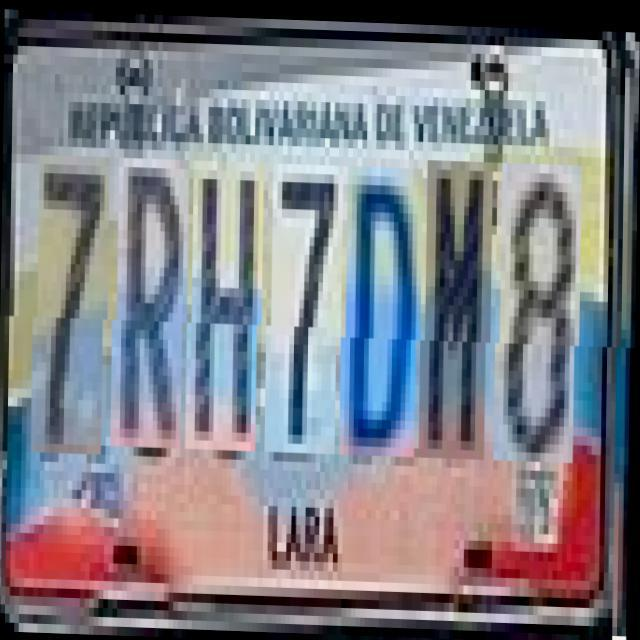7: (37, 154, 110, 454), (270, 161, 344, 452)
8: (499, 159, 582, 459)
D: (345, 163, 423, 454)
H: (191, 158, 264, 450)
M: (424, 157, 494, 456)
R: (116, 156, 190, 448)
